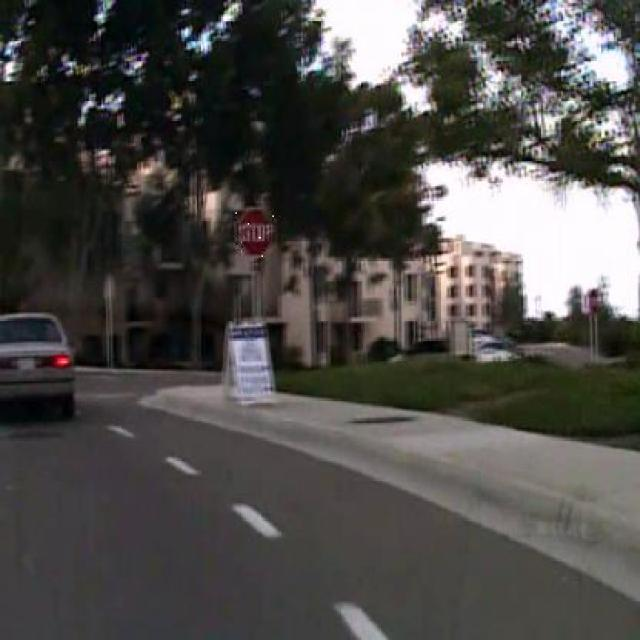stop: (235, 206, 275, 259)
